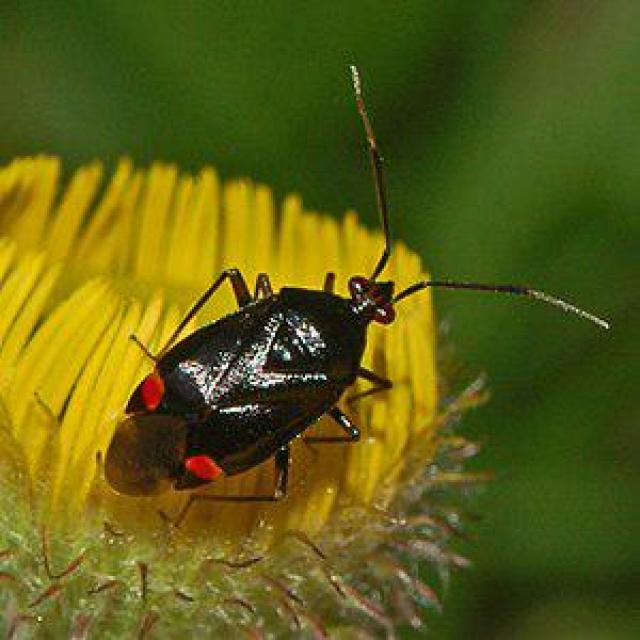Miridae-Adult-: (101, 64, 613, 518)
